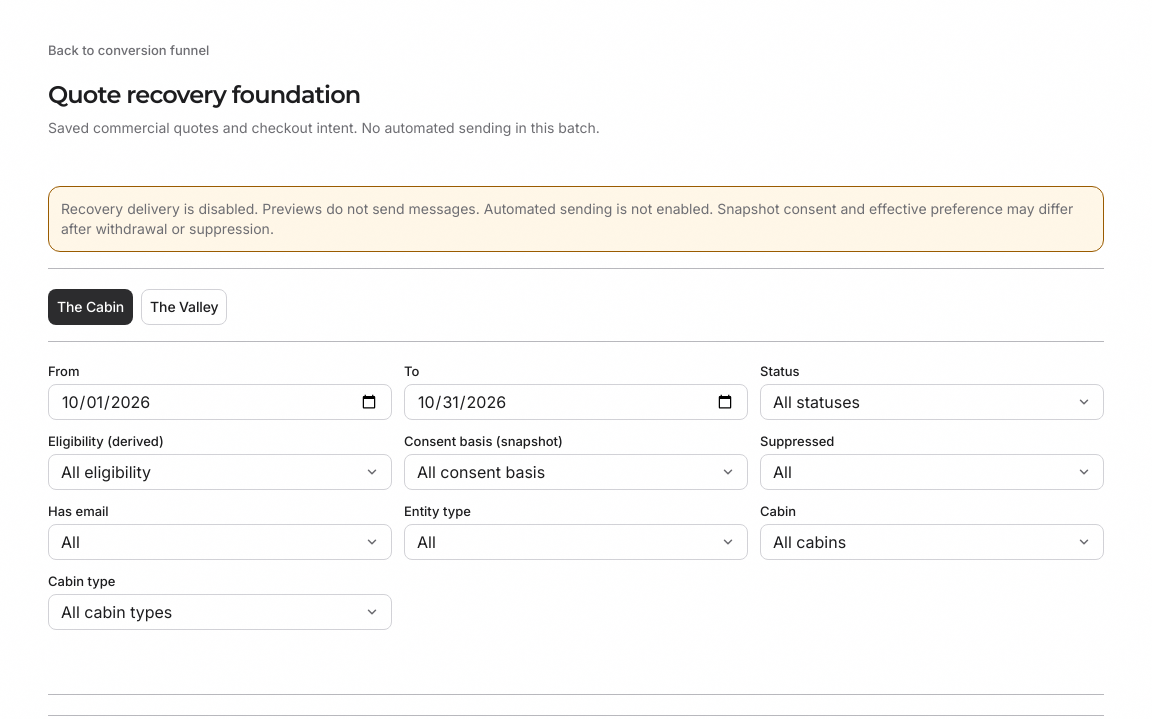
Test: OpsConversionRecovery migration › renders recovery row fields and empty copy
Select "Quoted" in the dropdown labelled "Status" at (932, 402), box left=760, top=384, right=1104, bottom=420
(page scrolled)
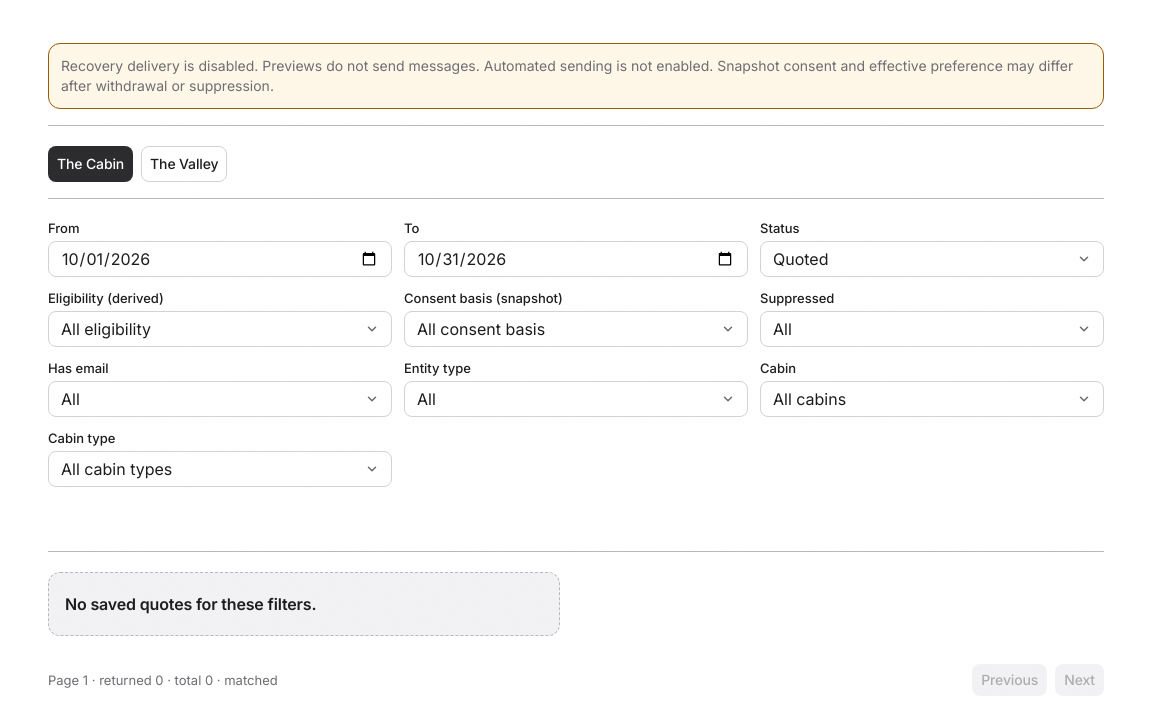
expect the text "No saved quotes for these filters." is shown: met, box left=65, top=593, right=316, bottom=615
